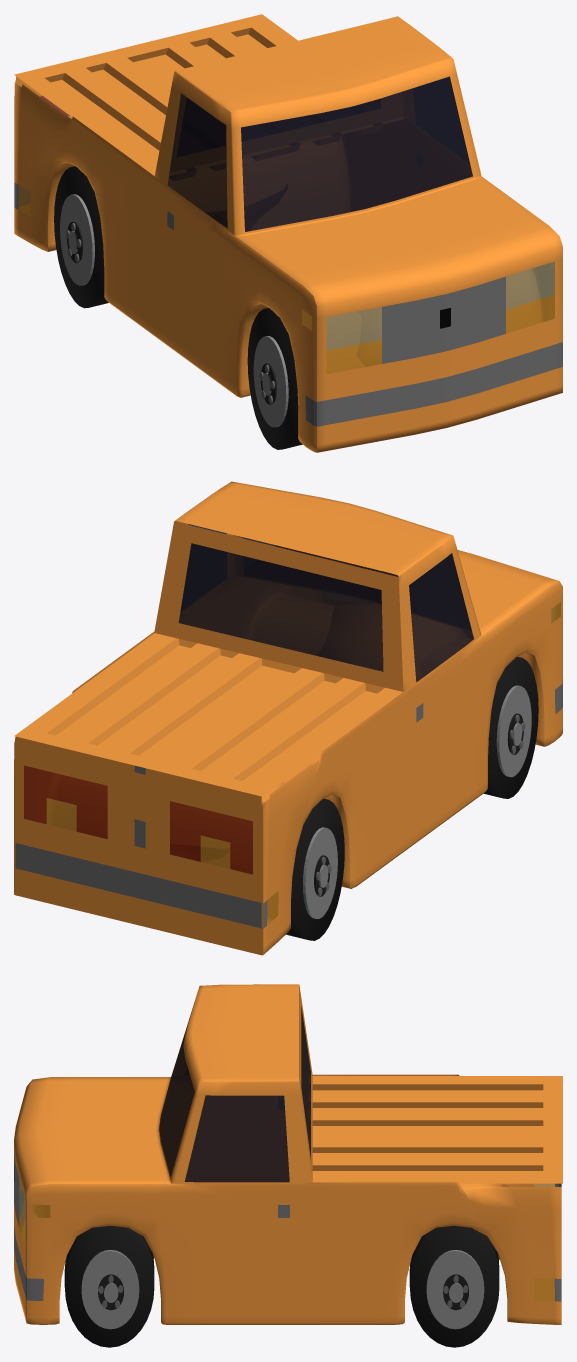
File: car5Pickup2_V2fixednormals.fbx
3 renders of one model, top to bottom at view 1: azimuth 30°, elevation 25°; view 2: azimuth 150°, elevation 25°; view 3: azimuth 270°, elevation 25°, orthographic. The views are drawn at different scales.
Parts seen in each view (by area): view 1: Car2, LugNut.001, LugNut.002; view 2: Car2, LugNut.002, LugNut.001; view 3: Car2, LugNut.004, LugNut.003.
Part boxes in pixels (left/top/right/bottom): Car2: left=14, top=14, right=562, bottom=452; LugNut.001: left=247, top=308, right=302, bottom=449; LugNut.002: left=54, top=166, right=108, bottom=308; Car2: left=14, top=481, right=562, bottom=955; LugNut.002: left=286, top=798, right=344, bottom=940; LugNut.001: left=484, top=656, right=538, bottom=798; Car2: left=14, top=984, right=562, bottom=1324; LugNut.004: left=64, top=1225, right=154, bottom=1347; LugNut.003: left=409, top=1225, right=499, bottom=1347.
Bounding box in the file's own units: 362 × 409 × 770.
